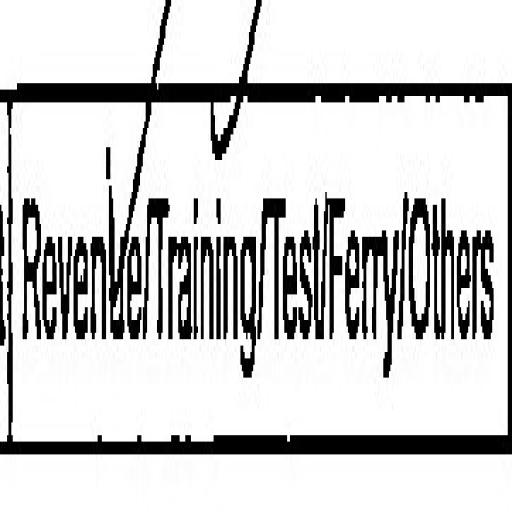check: (7, 0, 147, 493), (152, 12, 263, 500)
